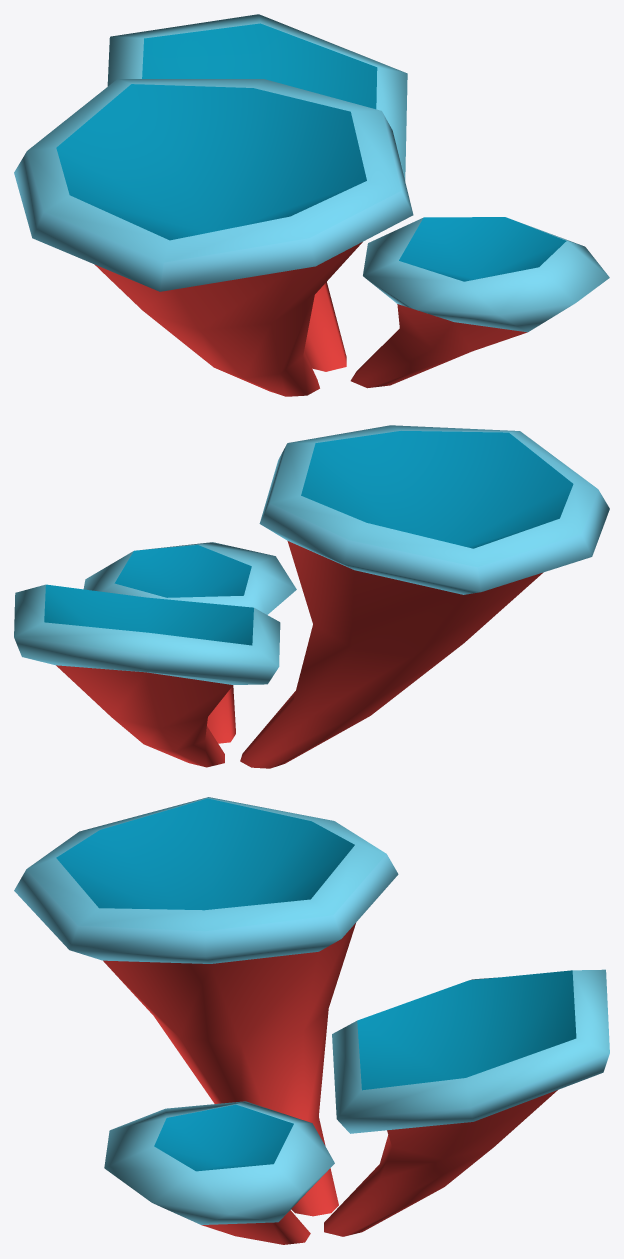
The model's file is fabulous_mushroom_004.glb.
3 renders of one model, top to bottom at view 1: azimuth 30°, elevation 25°; view 2: azimuth 150°, elevation 25°; view 3: azimuth 270°, elevation 25°, orthographic. The views are drawn at different scales.
Visible parts, largest first — view 1: fabulous_mushroom_004; view 2: fabulous_mushroom_004; view 3: fabulous_mushroom_004.
Boxes of the visible parts, x1,y1,x2,y2 form: fabulous_mushroom_004: (14,14,609,396); fabulous_mushroom_004: (14,425,609,768); fabulous_mushroom_004: (14,797,609,1244).
Bounding box in the file's own units: 2.16 × 1.16 × 2.12.
1 material, 1 textured.
